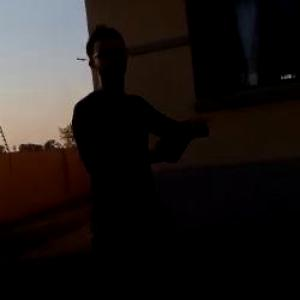follow: (57, 21, 220, 298)
